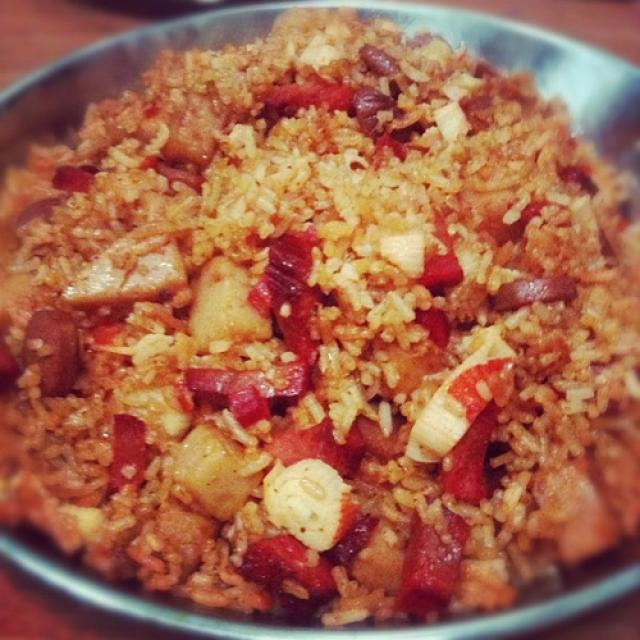米饭主食: (22, 28, 598, 572)
